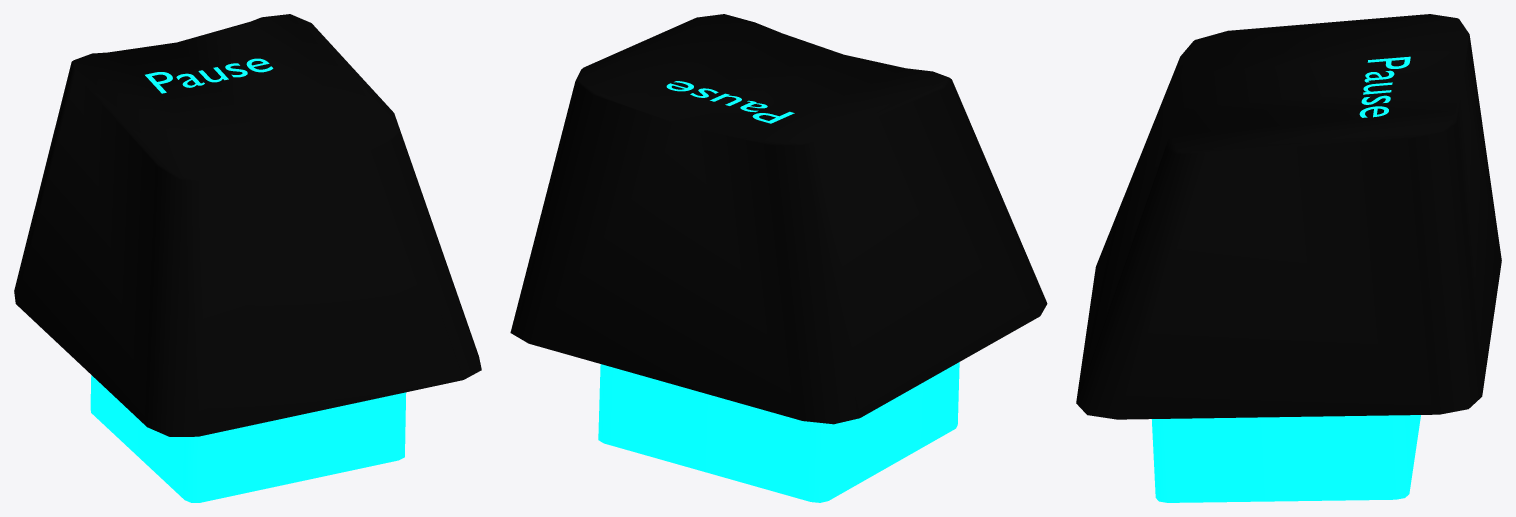
File: pause-Lb5cthqi.glb
3 views of the same model, side by side, from view 1: azimuth 30°, elevation 25°; view 2: azimuth 150°, elevation 25°; view 3: azimuth 270°, elevation 25° (orthographic). The views are drawn at different scales.
Visible parts, largest first — view 1: StudyShelf_1088; view 2: StudyShelf_1088; view 3: StudyShelf_1088.
Boxes of the visible parts, <box> form: StudyShelf_1088: <box>14,14,481,502</box>; StudyShelf_1088: <box>510,14,1047,502</box>; StudyShelf_1088: <box>1076,14,1501,502</box>.
Bounding box in the file's own units: 4.35 × 4.28 × 4.35.
